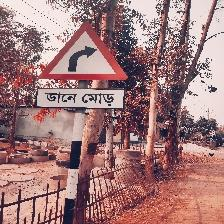Right-turn: (35, 21, 129, 113), (35, 88, 125, 109)
